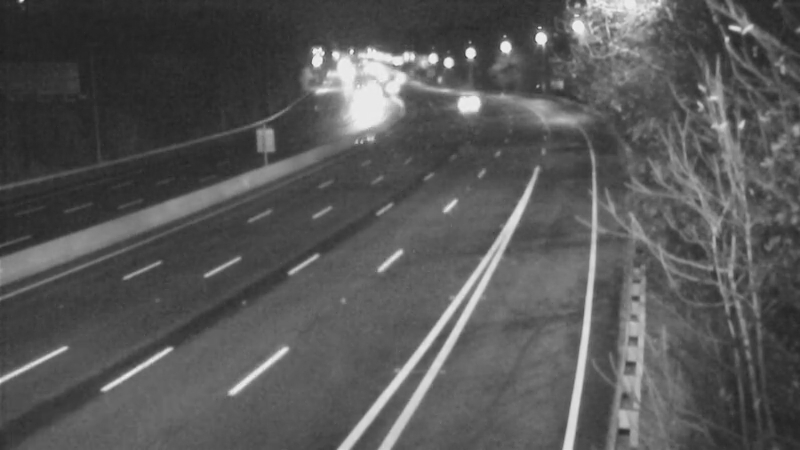vehicle: (369, 65, 419, 115), (435, 77, 485, 127), (337, 79, 387, 129)
